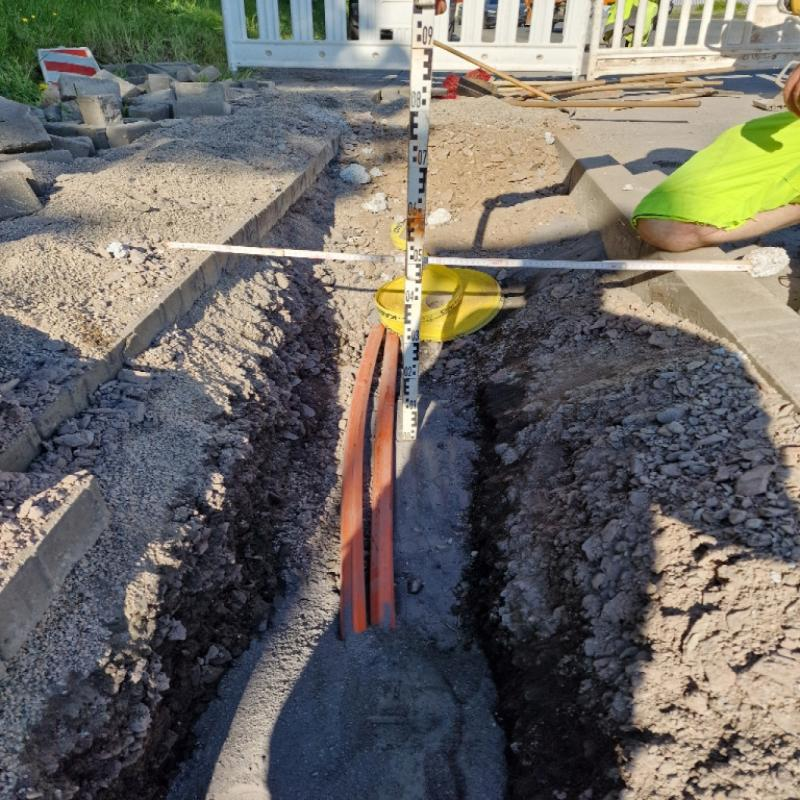Orang-Speednetrohrchen: (340, 322, 401, 632)
